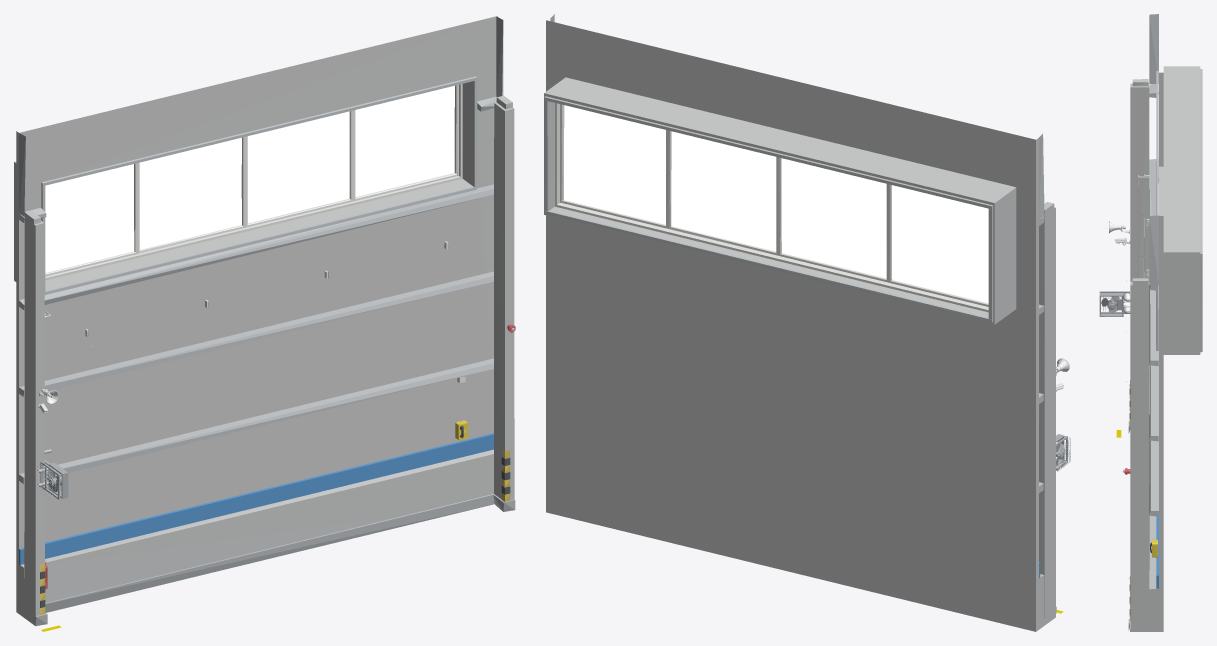
File: galpao-parede-janela.glb
The picture shows the model from 3 angles, left to right: view 1: azimuth 30°, elevation 25°; view 2: azimuth 150°, elevation 25°; view 3: azimuth 270°, elevation 25°; orthographic projection. The views are drawn at different scales.
Visible parts, largest first — view 1: #e6e9eb, #eef4f8, #a3abb1, #1f5fbf, #f2f2ee, #8f979d, #7f878e; view 2: #e6e9eb, #eef4f8, #f2f2ee, #a3abb1; view 3: #e6e9eb, #a3abb1, #7f878e, #f2f2ee, #f1f3f4, #1f5fbf.
Part boxes in pixels (<box>): #e6e9eb: <box>14,16,514,625</box>; #eef4f8: <box>45,85,454,272</box>; #a3abb1: <box>19,16,503,483</box>; #1f5fbf: <box>19,433,493,564</box>; #f2f2ee: <box>44,84,465,475</box>; #8f979d: <box>35,494,515,625</box>; #7f878e: <box>40,461,68,499</box>; #e6e9eb: <box>544,20,1055,631</box>; #eef4f8: <box>564,105,988,303</box>; #f2f2ee: <box>555,103,988,312</box>; #a3abb1: <box>544,14,1044,492</box>; #e6e9eb: <box>1130,66,1200,631</box>; #a3abb1: <box>1149,14,1202,516</box>; #7f878e: <box>1099,291,1129,316</box>; #f2f2ee: <box>1124,174,1149,382</box>; #f1f3f4: <box>1109,221,1130,245</box>; #1f5fbf: <box>1156,512,1158,588</box>.
Bounding box in the file's own units: 10.03 × 9.6 × 2.16.
